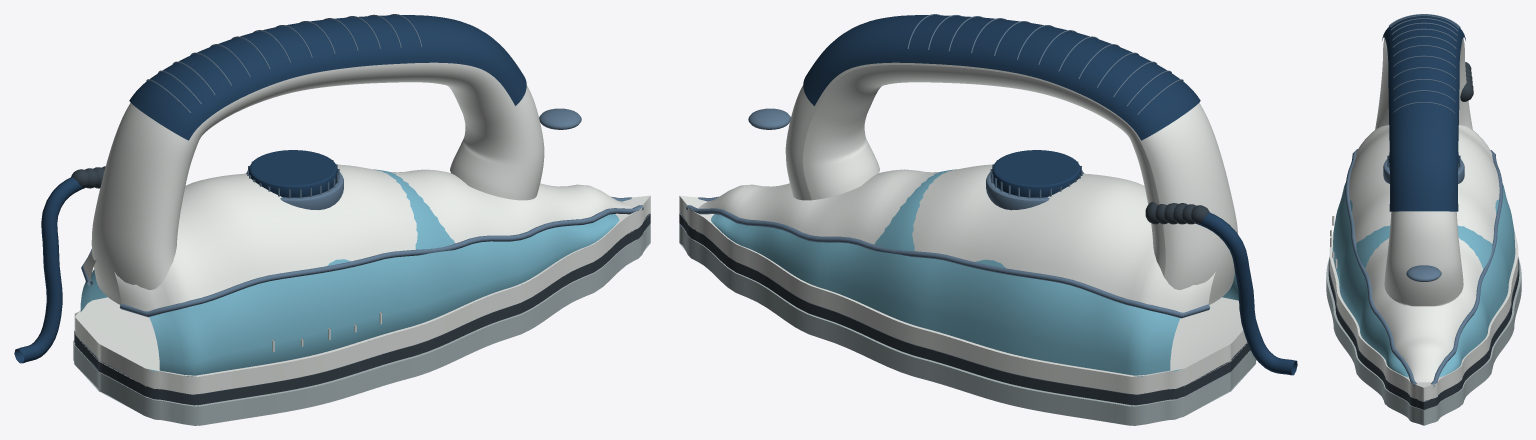
Rendered from iron.glb.
3 views of the same model, side by side, from view 1: azimuth 30°, elevation 25°; view 2: azimuth 150°, elevation 25°; view 3: azimuth 270°, elevation 25° (orthographic). The views are drawn at different scales.
Visible parts, largest first — view 1: Warm technical porcelain, Smoked aqua reservoir, Midnight blue grip, Polished stainless steel, Heat resistant gasket, Edge piping; view 2: Warm technical porcelain, Smoked aqua reservoir, Midnight blue grip, Polished stainless steel, Heat resistant gasket, Edge piping; view 3: Warm technical porcelain, Midnight blue grip, Smoked aqua reservoir, Edge piping, Polished stainless steel, Heat resistant gasket.
Boxes of the visible parts, x1,y1,x2,y2 form: Warm technical porcelain: (74, 62, 650, 394); Smoked aqua reservoir: (80, 169, 619, 376); Midnight blue grip: (14, 15, 526, 363); Polished stainless steel: (73, 224, 650, 425); Heat resistant gasket: (71, 166, 650, 405); Edge piping: (81, 14, 643, 317); Warm technical porcelain: (679, 62, 1247, 394); Smoked aqua reservoir: (711, 169, 1238, 376); Midnight blue grip: (803, 15, 1297, 375); Polished stainless steel: (679, 224, 1256, 425); Heat resistant gasket: (679, 202, 1250, 405); Edge piping: (686, 14, 1209, 318); Warm technical porcelain: (1329, 38, 1518, 401); Midnight blue grip: (1382, 15, 1465, 211); Smoked aqua reservoir: (1332, 182, 1515, 382); Edge piping: (1345, 14, 1502, 388); Polished stainless steel: (1326, 257, 1521, 425); Heat resistant gasket: (1328, 62, 1519, 409).
Size of the model in its own units: 2.06 by 1.03 by 0.6959.
